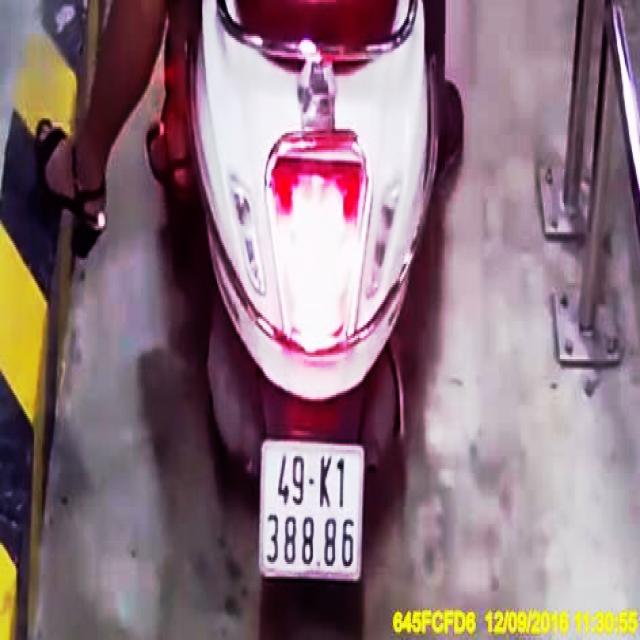license_plate: (261, 441, 367, 577)
